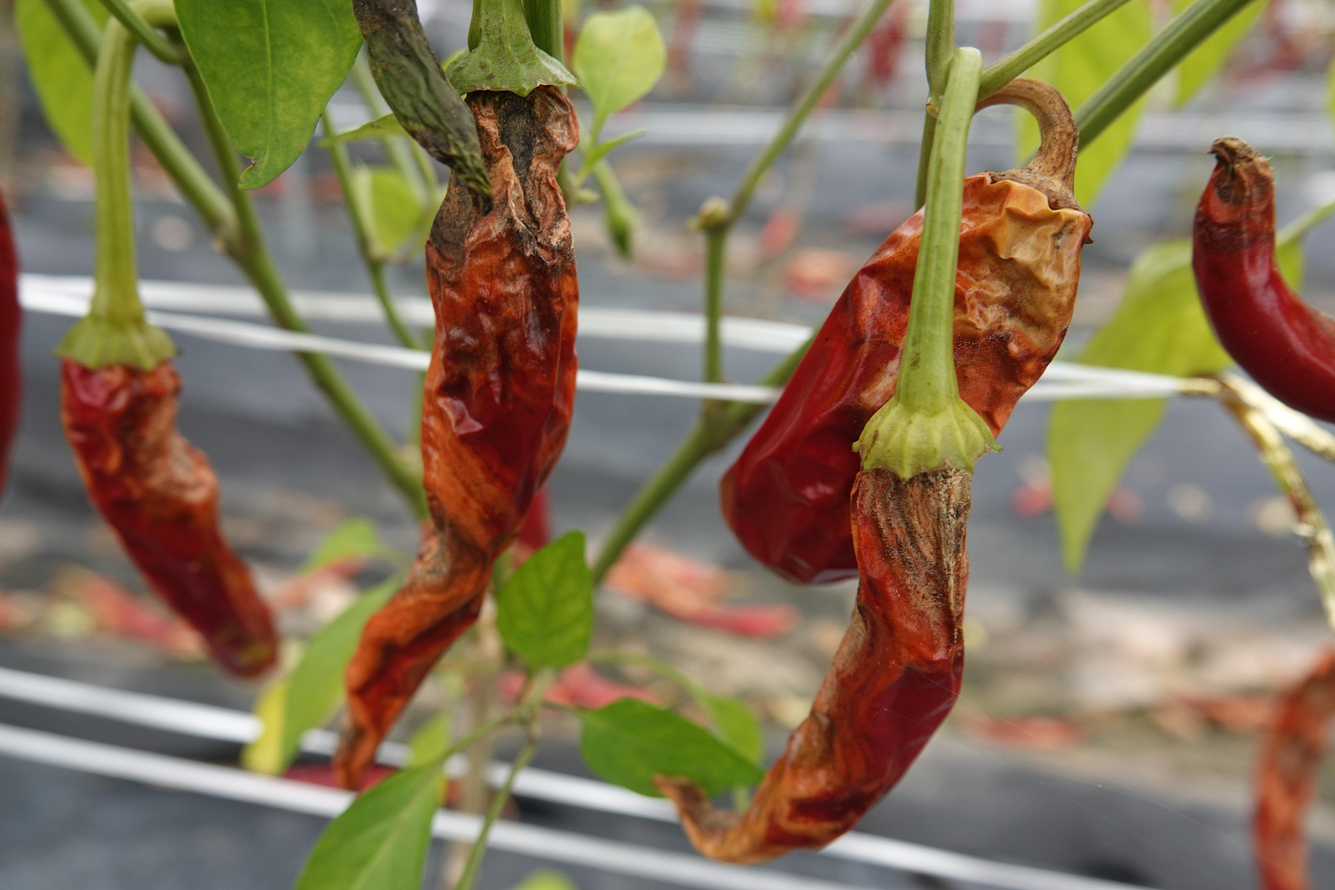Busuk Buah Antraknosa: (339, 59, 586, 796), (717, 162, 1103, 600), (651, 386, 994, 866), (59, 298, 285, 687)
